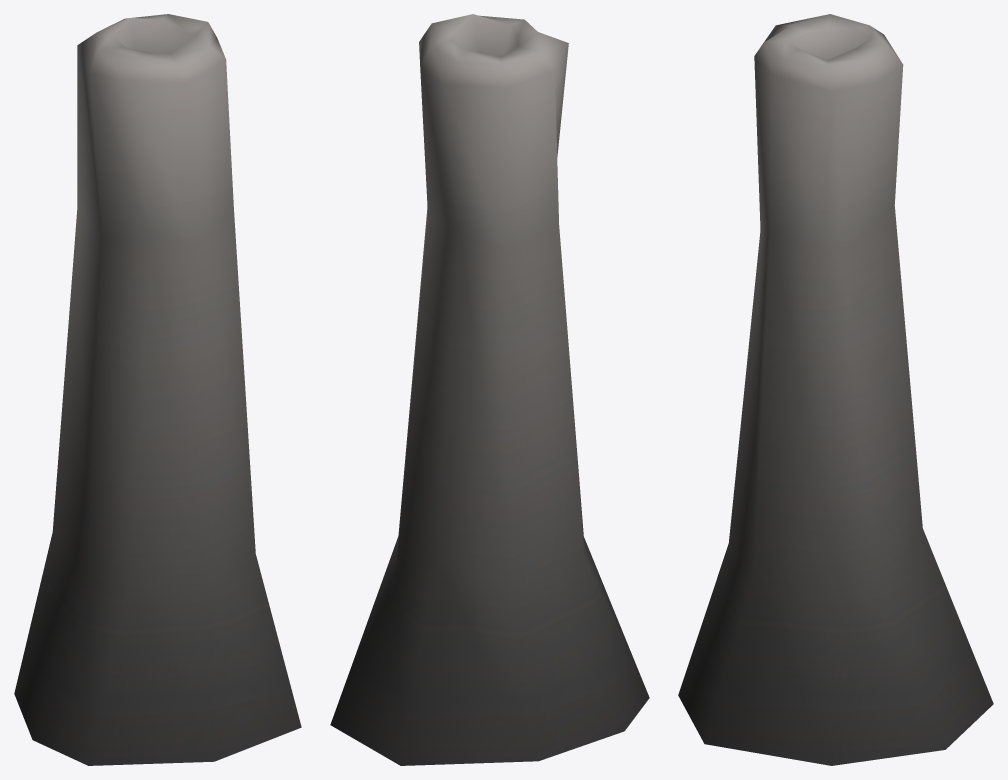
Rendered from m_Vent04_A.fbx.
3 views of the same model, side by side, from view 1: azimuth 30°, elevation 25°; view 2: azimuth 150°, elevation 25°; view 3: azimuth 270°, elevation 25° (orthographic).
Parts seen in each view (by area): view 1: m_Vent04_A; view 2: m_Vent04_A; view 3: m_Vent04_A.
Part boxes in pixels (box(x1,y1,x2,y2)): m_Vent04_A: box(14, 14, 301, 765); m_Vent04_A: box(330, 14, 649, 765); m_Vent04_A: box(678, 14, 993, 765).
Bounding box in the file's own units: 89.4 × 221 × 94.66.
